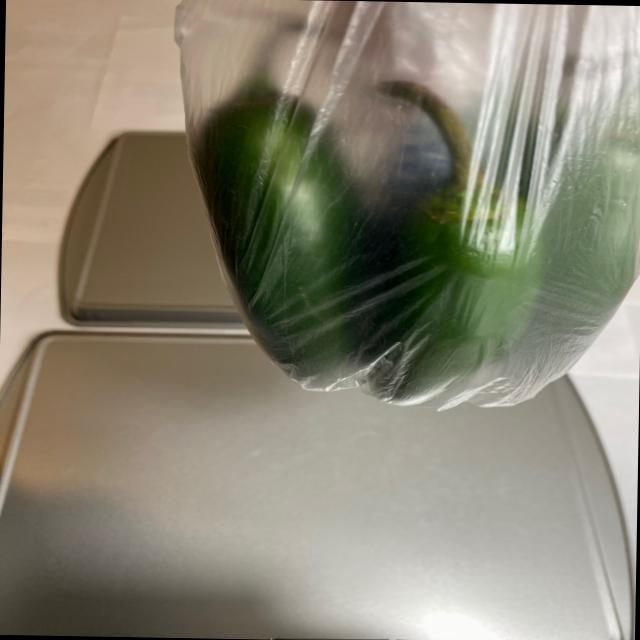chilli: (189, 11, 640, 412)
